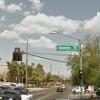Tree: (63, 28, 100, 79)
